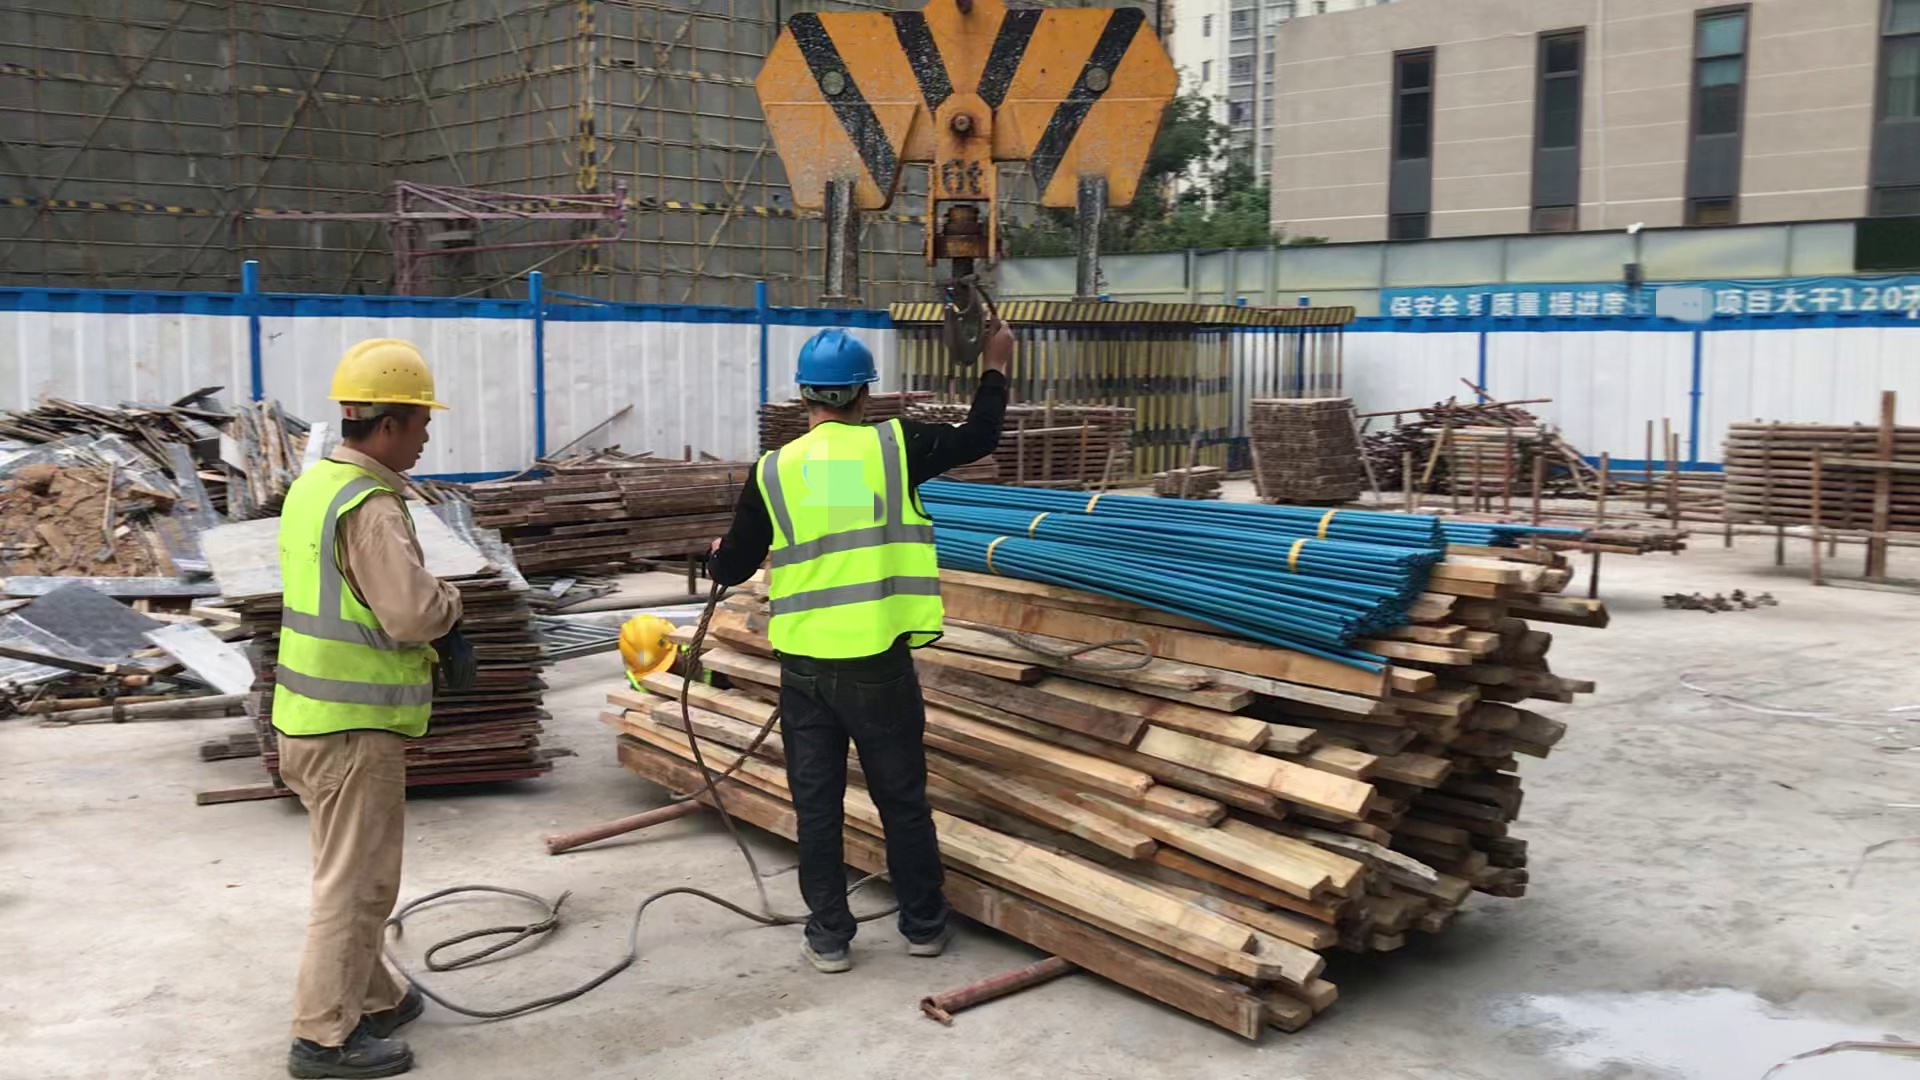board: (190, 509, 606, 830), (2, 382, 337, 747)
helmet: (317, 326, 455, 419), (785, 320, 911, 397)
hook: (691, 3, 1265, 369)
person: (700, 304, 1040, 977), (254, 320, 514, 1080), (609, 595, 701, 703)
scaffold: (1719, 399, 1920, 555), (1431, 385, 1581, 497)
slogan: (1381, 274, 1920, 356)
vest: (256, 459, 456, 743), (743, 419, 967, 666)
wood: (595, 476, 1681, 1065), (458, 461, 787, 584)
